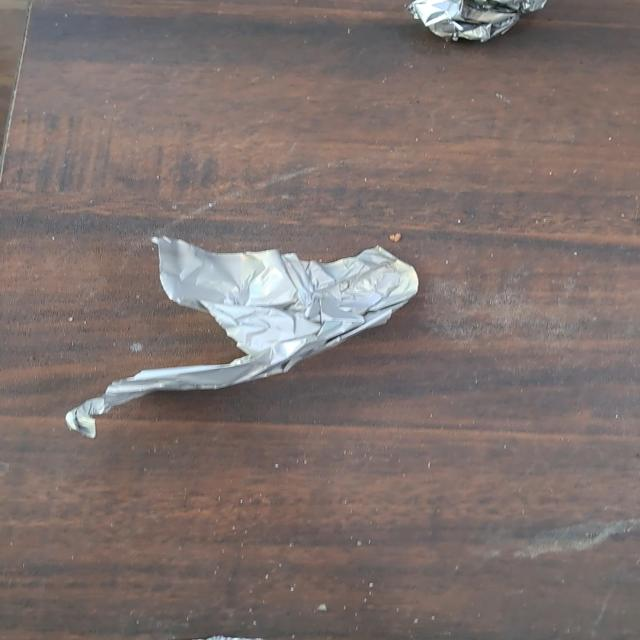Anorganik: (69, 235, 423, 435), (400, 0, 560, 44)
